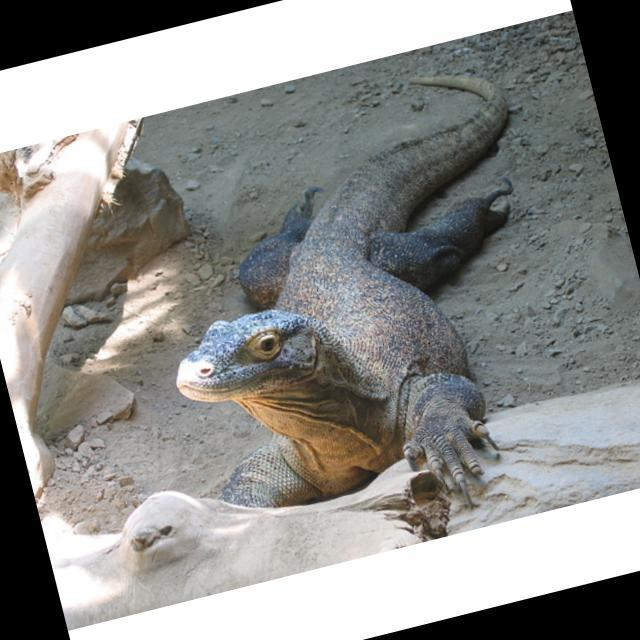KomodoDragon: (115, 53, 600, 571)
